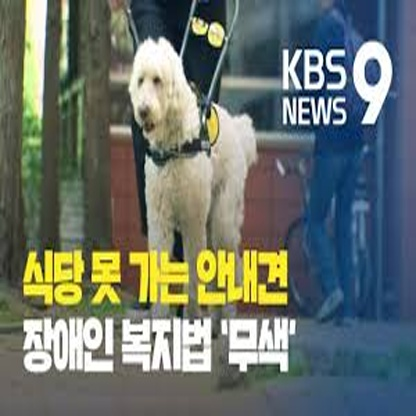guide-dog: (120, 34, 281, 339)
